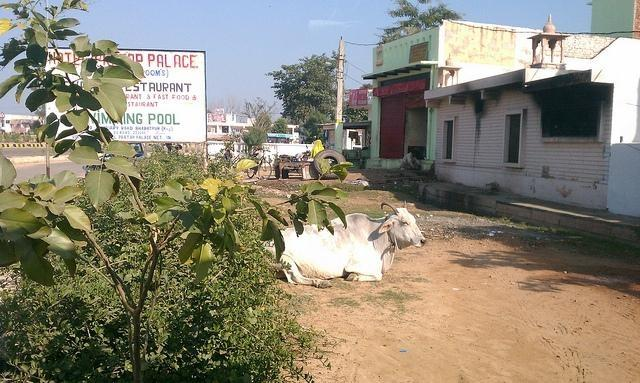bicycle: (248, 148, 272, 180)
